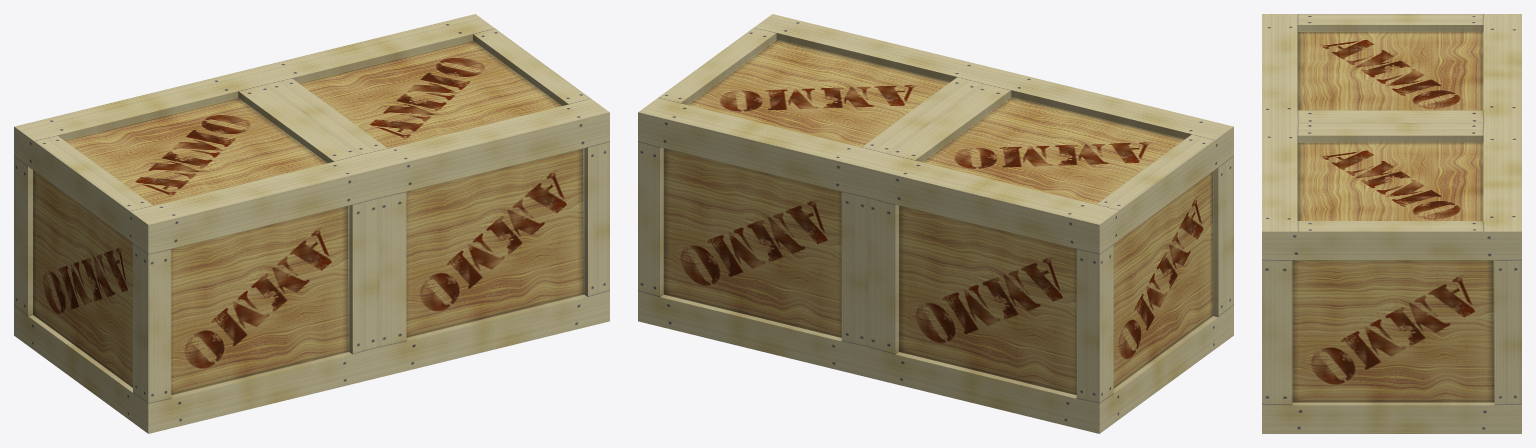
File: crate.fbx
3 views of the same model, side by side, from view 1: azimuth 30°, elevation 25°; view 2: azimuth 150°, elevation 25°; view 3: azimuth 270°, elevation 25° (orthographic). The views are drawn at different scales.
Visible parts, largest first — view 1: polySurface4; view 2: polySurface4; view 3: polySurface4.
Boxes of the visible parts, box(x1,y1,x2,y2) form: polySurface4: box(14, 14, 609, 433); polySurface4: box(638, 14, 1233, 433); polySurface4: box(1262, 14, 1521, 433).
Bounding box in the file's own units: 52.22 × 22.6 × 26.32.
1 material, 1 textured.
